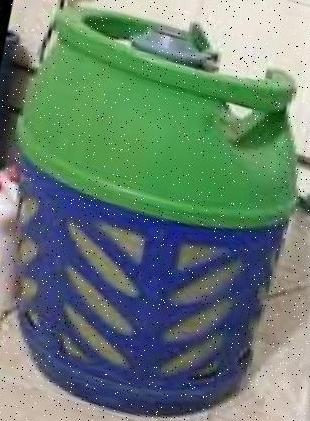cylinder: (1, 0, 310, 421)
